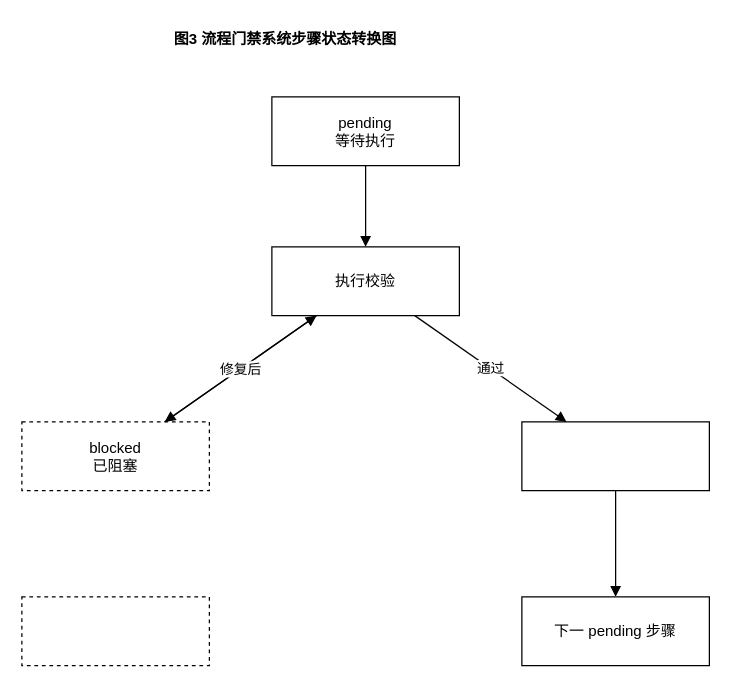
This 731x688 diagram has some shape labels left out. Each missing label, with the centre of its shape:
completed 已完成: (615,456)
not_required_yet 目标不要求: (115,631)
